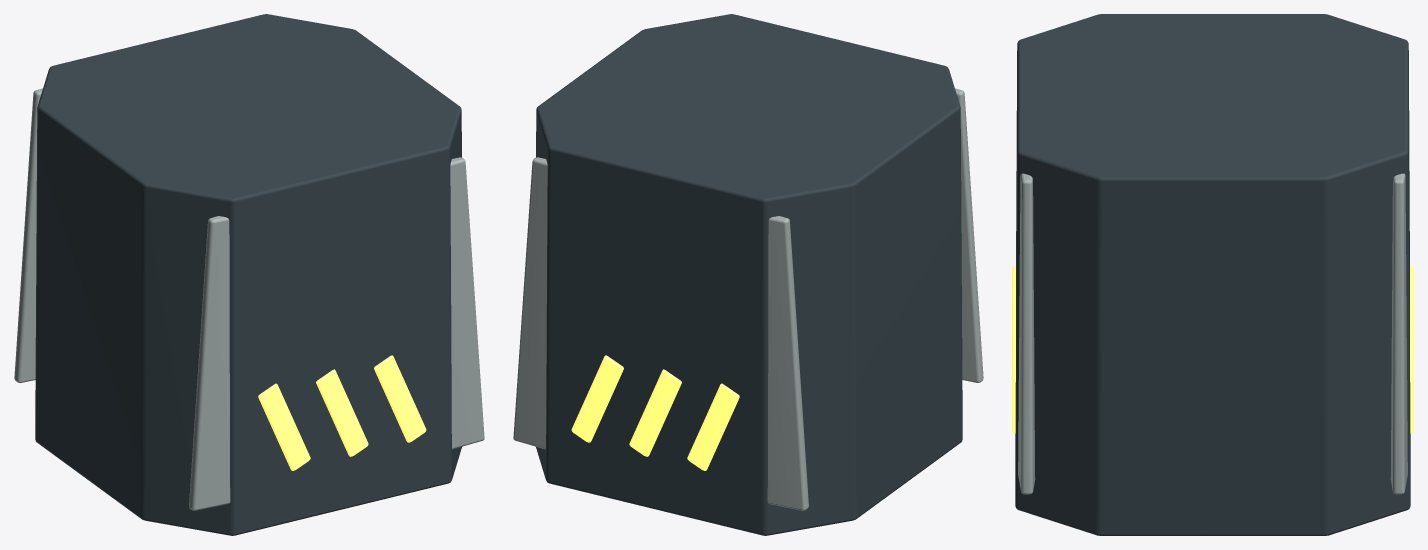
File: Cover.fbx
The picture shows the model from 3 angles, left to right: view 1: azimuth 30°, elevation 25°; view 2: azimuth 150°, elevation 25°; view 3: azimuth 270°, elevation 25°; orthographic projection. The views are drawn at different scales.
Visible parts, largest first — view 1: CoverFrame, Armor.002, Armor.003, Signal.007, Signal.006, Signal.008; view 2: CoverFrame, Armor.003, Armor.002, Signal.010, Signal.009, Signal.011; view 3: CoverFrame, Armor.002, Armor.003.
Boxes of the visible parts, x1,y1,x2,y2 form: CoverFrame: (35,14,461,535); Armor.002: (189,157,484,510); Armor.003: (14,88,42,382); Signal.007: (316,369,368,456); Signal.006: (258,383,310,470); Signal.008: (374,355,426,442); CoverFrame: (536,14,962,535); Armor.003: (513,157,808,510); Armor.002: (955,88,983,382); Signal.010: (629,369,681,456); Signal.009: (687,383,739,470); Signal.011: (571,355,623,442); CoverFrame: (1015,14,1410,535); Armor.002: (1018,173,1035,494); Armor.003: (1390,173,1407,494).
Size of the model in its own units: 0.9999 by 1 by 1.02.
